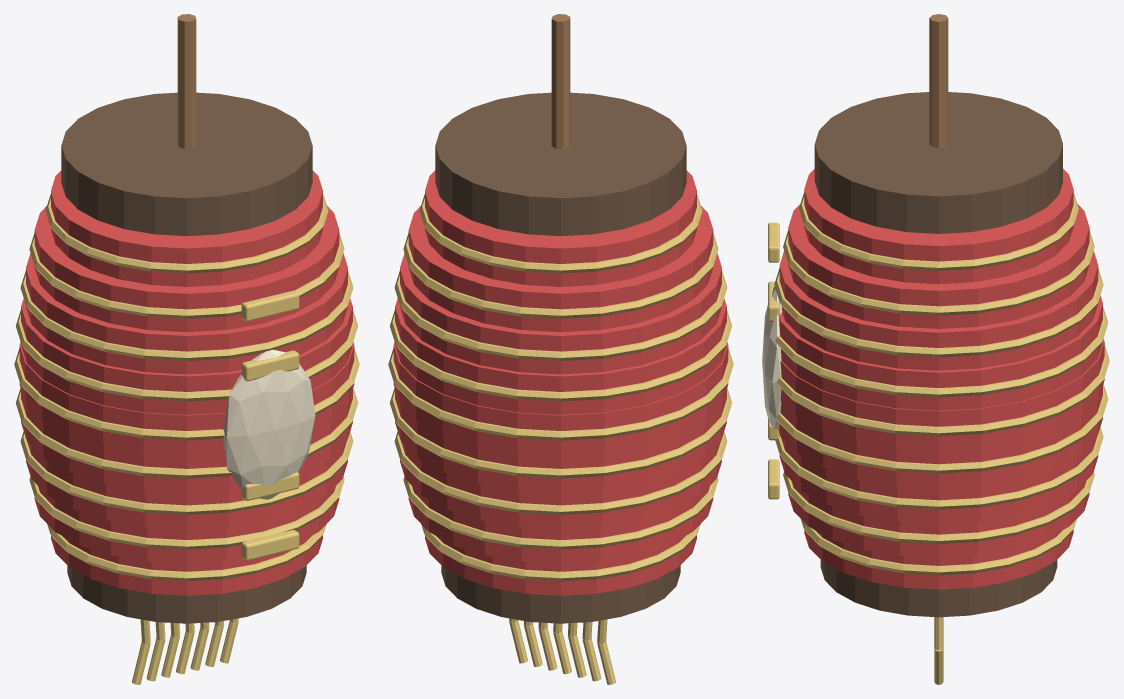
Rendered from kabuki_stage_lantern.glb.
The picture shows the model from 3 angles, left to right: view 1: azimuth 30°, elevation 25°; view 2: azimuth 150°, elevation 25°; view 3: azimuth 270°, elevation 25°; orthographic projection.
Parts seen in each view (by area): view 1: Kabuki playhouse named red lantern thin top, Kabuki playhouse named red lantern folded paper.008, Kabuki playhouse named red lantern folded paper.007, Kabuki playhouse named red lantern folded paper.006, Kabuki playhouse named red lantern painted crest, Kabuki playhouse named red lantern folded paper.005, Kabuki playhouse named red lantern folded paper.002, Kabuki playhouse named red lantern folded paper.004, Kabuki playhouse named red lantern folded paper.003, Kabuki playhouse named red lantern folded paper.001, Kabuki playhouse named red lantern bottom, Kabuki playhouse named red lantern folded paper (+14 smaller); view 2: Kabuki playhouse named red lantern thin top, Kabuki playhouse named red lantern folded paper.007, Kabuki playhouse named red lantern folded paper.008, Kabuki playhouse named red lantern folded paper.006, Kabuki playhouse named red lantern folded paper.005, Kabuki playhouse named red lantern folded paper.004, Kabuki playhouse named red lantern folded paper.003, Kabuki playhouse named red lantern folded paper.002, Kabuki playhouse named red lantern folded paper.001, Kabuki playhouse named red lantern bottom, Kabuki playhouse named red lantern folded paper, Kabuki playhouse named red lantern bamboo rung.004 (+9 smaller); view 3: Kabuki playhouse named red lantern thin top, Kabuki playhouse named red lantern folded paper.007, Kabuki playhouse named red lantern folded paper.008, Kabuki playhouse named red lantern folded paper.006, Kabuki playhouse named red lantern folded paper.005, Kabuki playhouse named red lantern folded paper.004, Kabuki playhouse named red lantern folded paper.003, Kabuki playhouse named red lantern folded paper.002, Kabuki playhouse named red lantern folded paper.001, Kabuki playhouse named red lantern bottom, Kabuki playhouse named red lantern folded paper, Kabuki playhouse named red lantern bamboo rung.006 (+10 smaller).
Boxes of the visible parts, x1=… form: Kabuki playhouse named red lantern thin top: x1=61, y1=92, x2=312, y2=236; Kabuki playhouse named red lantern folded paper.008: x1=51, y1=170, x2=322, y2=286; Kabuki playhouse named red lantern folded paper.007: x1=34, y1=206, x2=339, y2=332; Kabuki playhouse named red lantern folded paper.006: x1=26, y1=253, x2=347, y2=374; Kabuki playhouse named red lantern painted crest: x1=223, y1=349, x2=315, y2=499; Kabuki playhouse named red lantern folded paper.005: x1=21, y1=298, x2=352, y2=414; Kabuki playhouse named red lantern folded paper.002: x1=26, y1=441, x2=347, y2=529; Kabuki playhouse named red lantern folded paper.004: x1=19, y1=342, x2=354, y2=454; Kabuki playhouse named red lantern folded paper.003: x1=21, y1=389, x2=352, y2=492; Kabuki playhouse named red lantern folded paper.001: x1=34, y1=486, x2=339, y2=563; Kabuki playhouse named red lantern bottom: x1=67, y1=565, x2=306, y2=623; Kabuki playhouse named red lantern folded paper: x1=51, y1=535, x2=322, y2=595; Kabuki playhouse named red lantern thin top: x1=435, y1=92, x2=686, y2=236; Kabuki playhouse named red lantern folded paper.007: x1=408, y1=206, x2=713, y2=332; Kabuki playhouse named red lantern folded paper.008: x1=425, y1=170, x2=696, y2=286; Kabuki playhouse named red lantern folded paper.006: x1=400, y1=253, x2=721, y2=374; Kabuki playhouse named red lantern folded paper.005: x1=395, y1=298, x2=726, y2=414; Kabuki playhouse named red lantern folded paper.004: x1=393, y1=342, x2=728, y2=454; Kabuki playhouse named red lantern folded paper.003: x1=395, y1=389, x2=726, y2=492; Kabuki playhouse named red lantern folded paper.002: x1=400, y1=441, x2=721, y2=529; Kabuki playhouse named red lantern folded paper.001: x1=408, y1=486, x2=713, y2=563; Kabuki playhouse named red lantern bottom: x1=441, y1=565, x2=680, y2=623; Kabuki playhouse named red lantern folded paper: x1=425, y1=535, x2=696, y2=595; Kabuki playhouse named red lantern bamboo rung.004: x1=388, y1=348, x2=733, y2=440; Kabuki playhouse named red lantern thin top: x1=814, y1=92, x2=1062, y2=233; Kabuki playhouse named red lantern folded paper.007: x1=788, y1=204, x2=1089, y2=328; Kabuki playhouse named red lantern folded paper.008: x1=804, y1=168, x2=1073, y2=284; Kabuki playhouse named red lantern folded paper.006: x1=779, y1=251, x2=1098, y2=370; Kabuki playhouse named red lantern folded paper.005: x1=779, y1=295, x2=1102, y2=410; Kabuki playhouse named red lantern folded paper.004: x1=780, y1=339, x2=1104, y2=450; Kabuki playhouse named red lantern folded paper.003: x1=778, y1=386, x2=1102, y2=487; Kabuki playhouse named red lantern folded paper.002: x1=779, y1=437, x2=1098, y2=523; Kabuki playhouse named red lantern folded paper.001: x1=788, y1=481, x2=1089, y2=558; Kabuki playhouse named red lantern bottom: x1=820, y1=560, x2=1057, y2=617; Kabuki playhouse named red lantern folded paper: x1=804, y1=530, x2=1073, y2=589; Kabuki playhouse named red lantern bamboo rung.006: x1=774, y1=268, x2=1103, y2=357.
Bounding box in the file's own units: 0.9335 × 1.95 × 0.9497.
